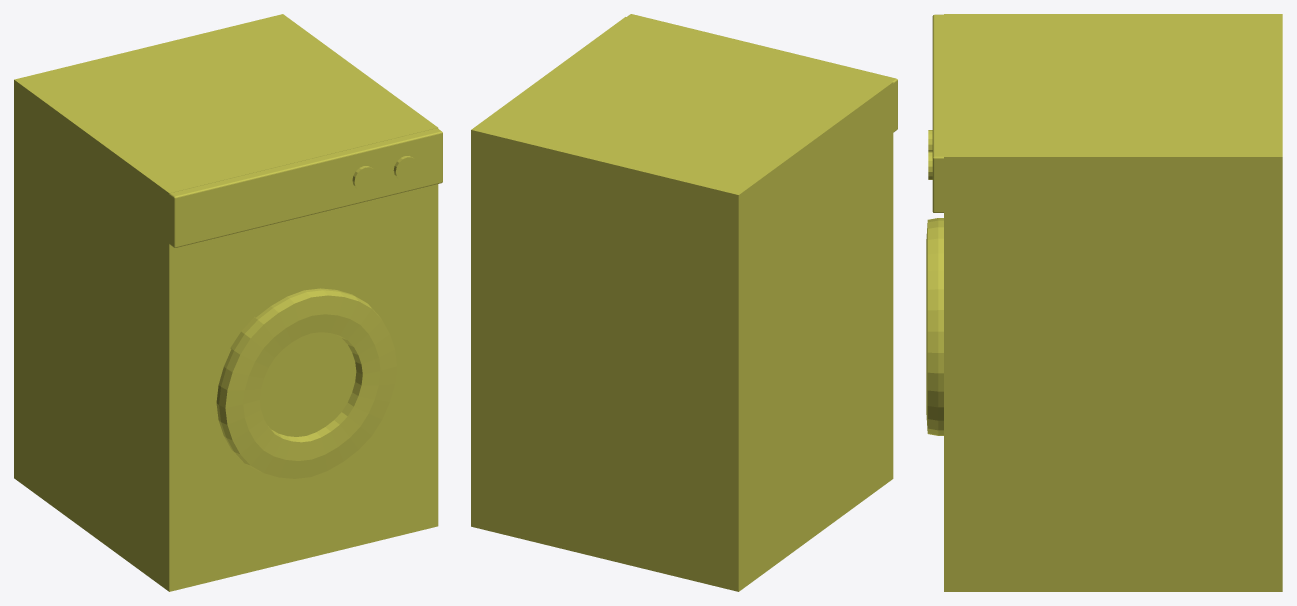
The model's file is eteks-clotheswasher.glb.
The picture shows the model from 3 angles, left to right: view 1: azimuth 30°, elevation 25°; view 2: azimuth 150°, elevation 25°; view 3: azimuth 270°, elevation 25°; orthographic projection. The views are drawn at different scales.
Parts seen in each view (by area): view 1: Body, sweethome3d_opening_on_hinge_1_doorFront, Pannel, sweethome3d_window_pane_on_hinge_1, sweethome3d_opening_on_hinge_1_door; view 2: Body, Pannel; view 3: Body, sweethome3d_opening_on_hinge_1_door, Pannel.
Boxes of the visible parts, left/top/right/bottom form: Body: left=14, top=14, right=438, bottom=591; sweethome3d_opening_on_hinge_1_doorFront: left=225, top=295, right=396, bottom=478; Pannel: left=169, top=128, right=442, bottom=247; sweethome3d_window_pane_on_hinge_1: left=259, top=332, right=356, bottom=436; sweethome3d_opening_on_hinge_1_door: left=216, top=288, right=380, bottom=472; Body: left=471, top=17, right=893, bottom=591; Pannel: left=627, top=14, right=897, bottom=132; Body: left=944, top=14, right=1282, bottom=591; sweethome3d_opening_on_hinge_1_door: left=927, top=218, right=943, bottom=435; Pannel: left=932, top=14, right=943, bottom=212.
Bounding box in the file's own units: 60 × 85 × 63.12.
